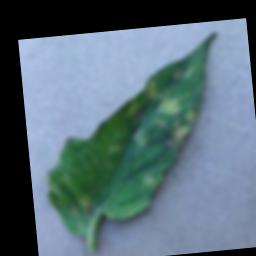Leaf_Mold: (144, 75, 180, 119), (163, 124, 192, 154), (181, 105, 200, 125)
